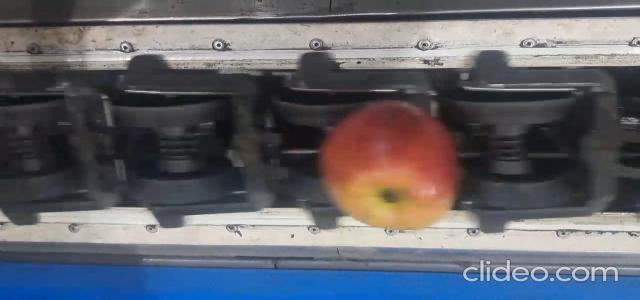apple: (320, 101, 459, 229)
